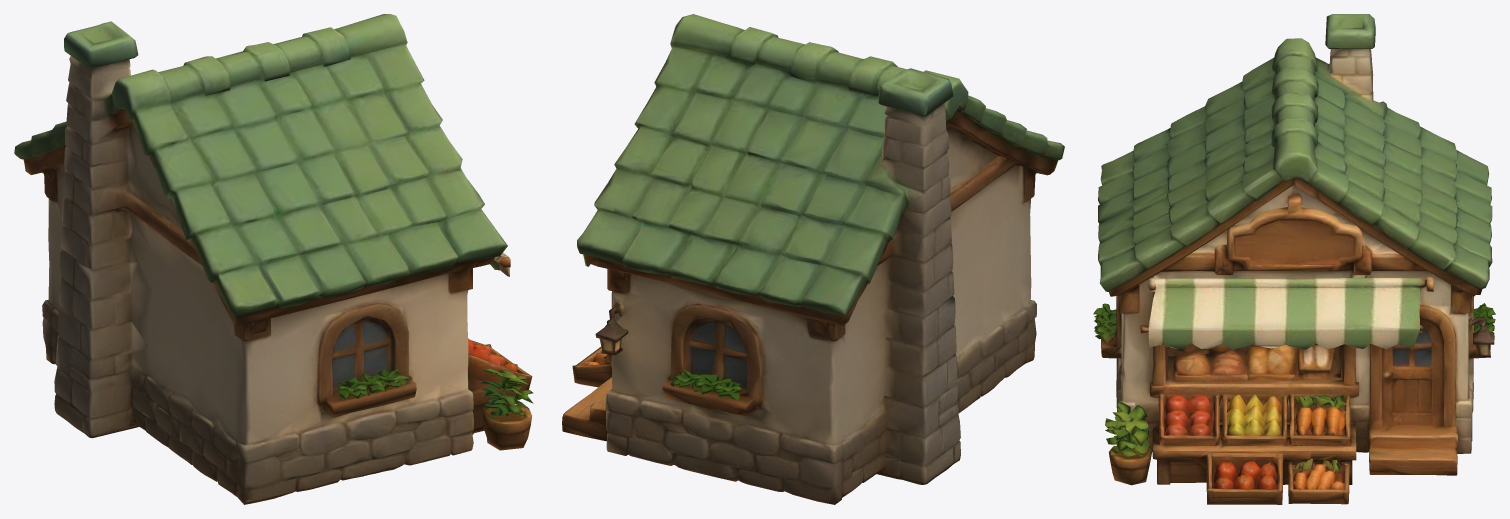
The model's file is epicerie.glb.
3 views of the same model, side by side, from view 1: azimuth 30°, elevation 25°; view 2: azimuth 150°, elevation 25°; view 3: azimuth 270°, elevation 25° (orthographic). The views are drawn at different scales.
Visible parts, largest first — view 1: tripo_node_9bf13162-7c81-44f6-b2d8-199f8ea05ea7; view 2: tripo_node_9bf13162-7c81-44f6-b2d8-199f8ea05ea7; view 3: tripo_node_9bf13162-7c81-44f6-b2d8-199f8ea05ea7.
Part boxes in pixels (x1,y1,x2,y2): tripo_node_9bf13162-7c81-44f6-b2d8-199f8ea05ea7: (14, 14, 533, 504); tripo_node_9bf13162-7c81-44f6-b2d8-199f8ea05ea7: (562, 14, 1064, 504); tripo_node_9bf13162-7c81-44f6-b2d8-199f8ea05ea7: (1093, 14, 1495, 504).
Bounding box in the file's own units: 0.9487 × 0.9225 × 1.
1 material, 1 textured.
